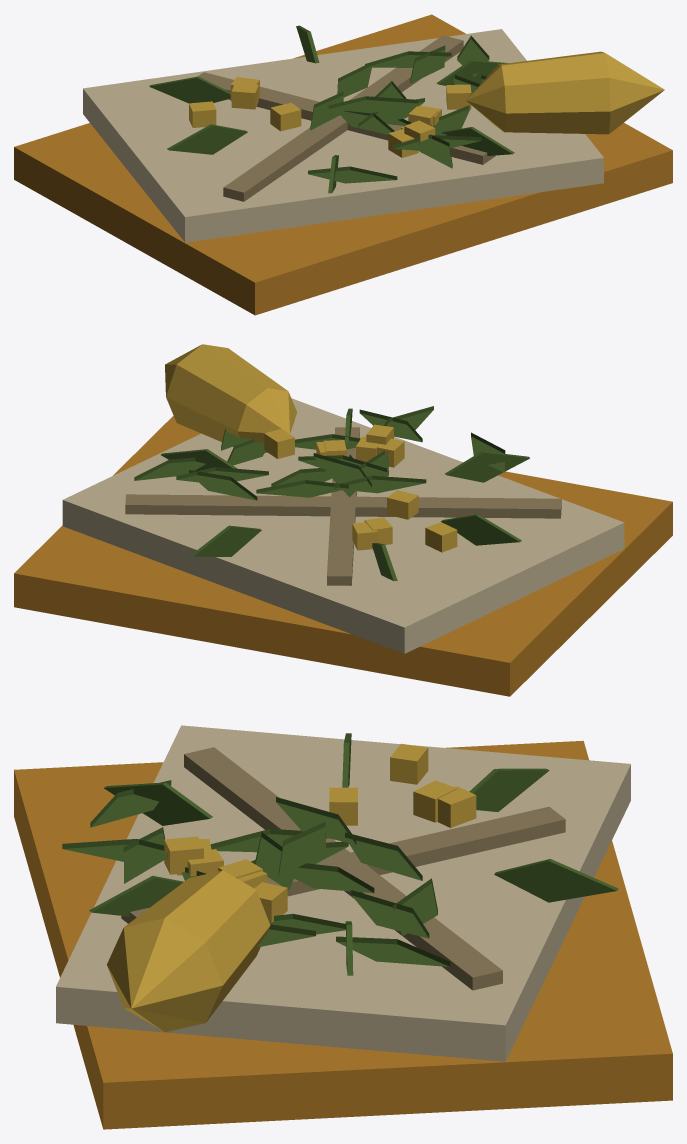
Rendered from pch_offering_gift.glb.
3 renders of one model, top to bottom at view 1: azimuth 30°, elevation 25°; view 2: azimuth 150°, elevation 25°; view 3: azimuth 270°, elevation 25°, orthographic. The views are drawn at different scales.
Visible parts, largest first — view 1: pch_offering_gift; view 2: pch_offering_gift; view 3: pch_offering_gift.
Boxes of the visible parts, box(x1,y1,x2,y2) form: pch_offering_gift: box(14, 14, 672, 315); pch_offering_gift: box(14, 344, 672, 696); pch_offering_gift: box(14, 725, 672, 1129).
Size of the model in its own units: 0.2831 by 0.069 by 0.2297.
